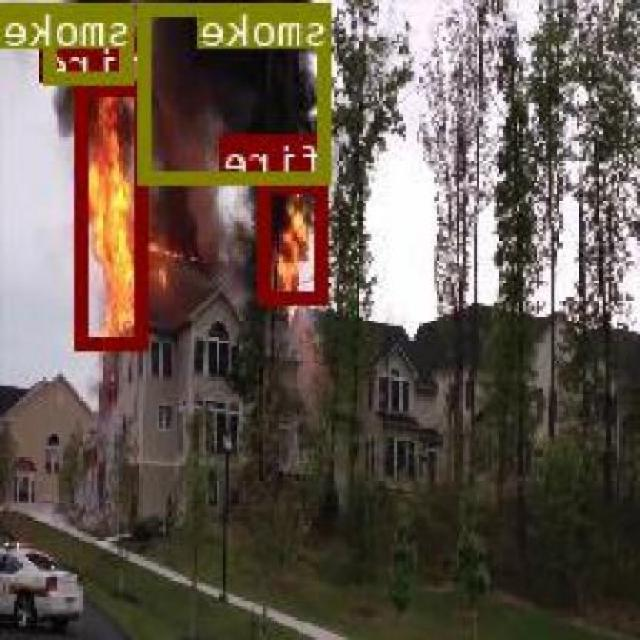Fire: (78, 80, 151, 348), (262, 179, 330, 301)
Smoke: (140, 0, 332, 182), (47, 0, 135, 80)
